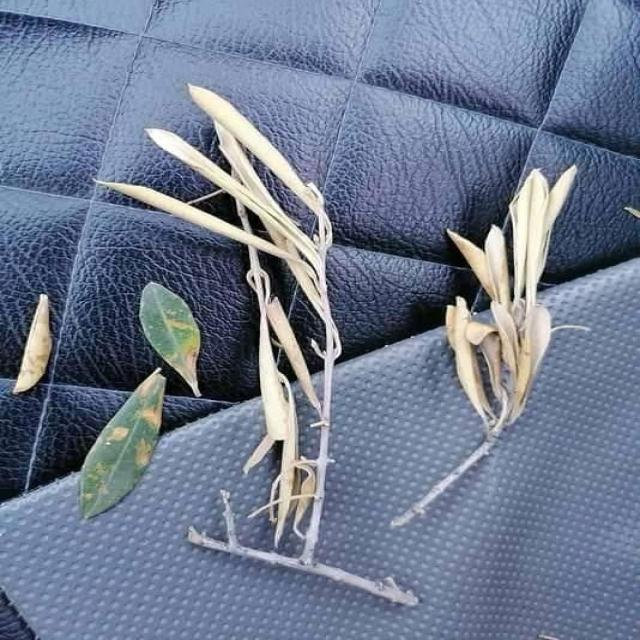Peacock Eye: (79, 369, 165, 519), (139, 282, 204, 398)
